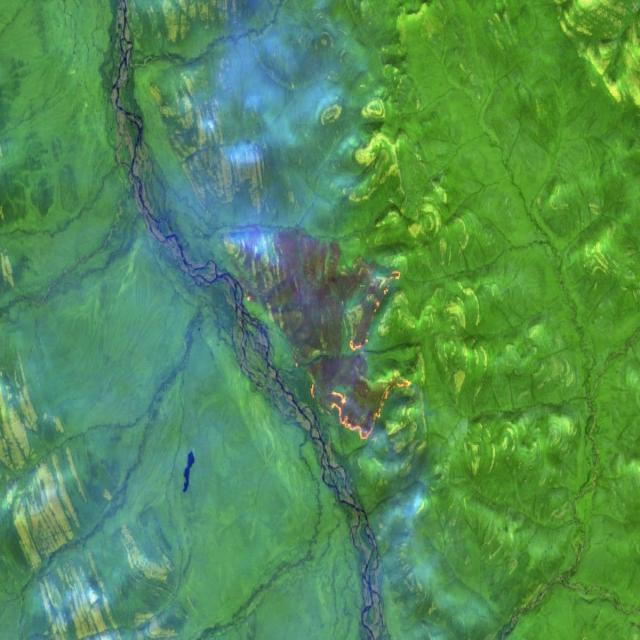fire: (307, 265, 414, 445)
